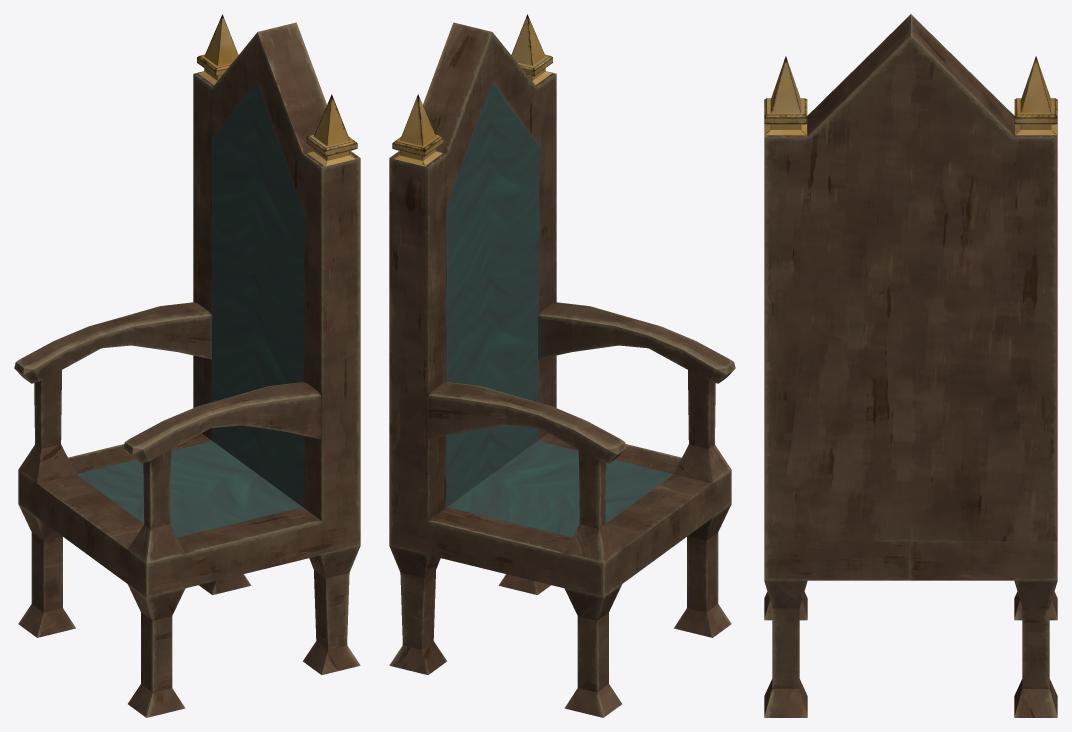
Rendered from BiblioChair.fbx.
3 views of the same model, side by side, from view 1: azimuth 30°, elevation 25°; view 2: azimuth 150°, elevation 25°; view 3: azimuth 270°, elevation 25° (orthographic). The views are drawn at different scales.
Visible parts, largest first — view 1: Silla; view 2: Silla; view 3: Silla.
Boxes of the visible parts, bbox=[...] form: Silla: bbox=[14, 14, 360, 717]; Silla: bbox=[389, 14, 735, 717]; Silla: bbox=[764, 14, 1057, 717].
Size of the model in its own units: 139 by 355 by 138.
